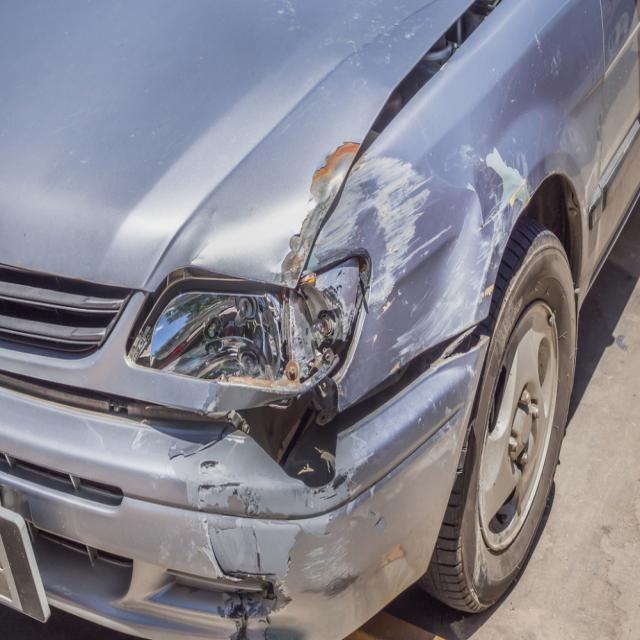crack: (207, 525, 278, 640)
dent: (356, 177, 484, 355), (254, 140, 358, 278)
lamp broken: (133, 254, 375, 387)
scratch: (166, 434, 367, 602), (304, 154, 417, 276), (479, 150, 533, 292)
